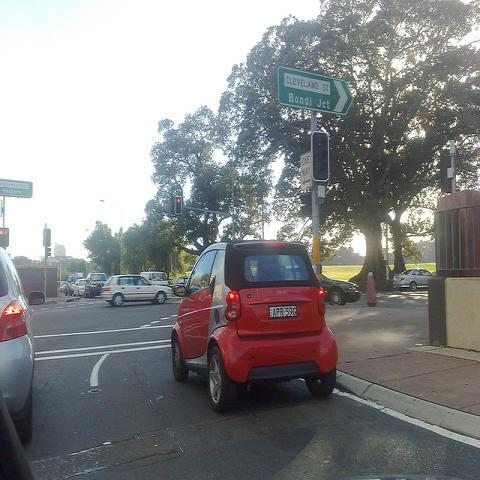car: (170, 238, 337, 411), (0, 241, 40, 444), (97, 275, 175, 307), (321, 269, 362, 305), (393, 269, 432, 292), (85, 272, 108, 298), (140, 271, 175, 288), (65, 275, 80, 296), (173, 277, 190, 291), (73, 279, 86, 296), (60, 281, 66, 295)
